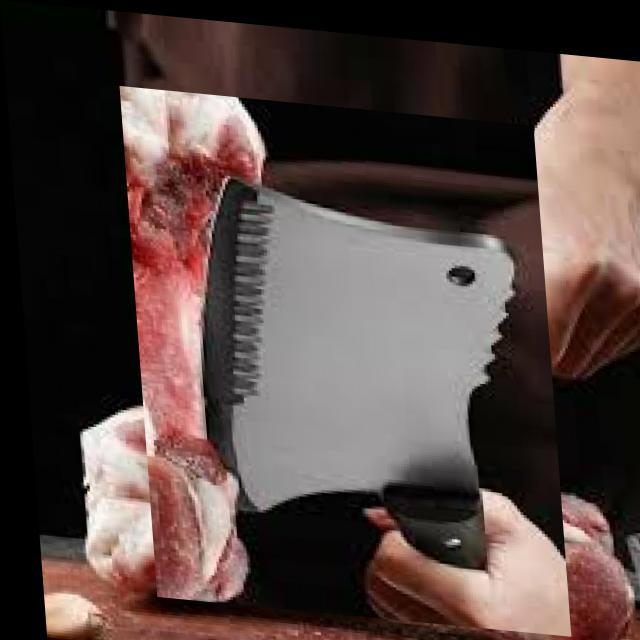knife: (201, 172, 522, 570)
